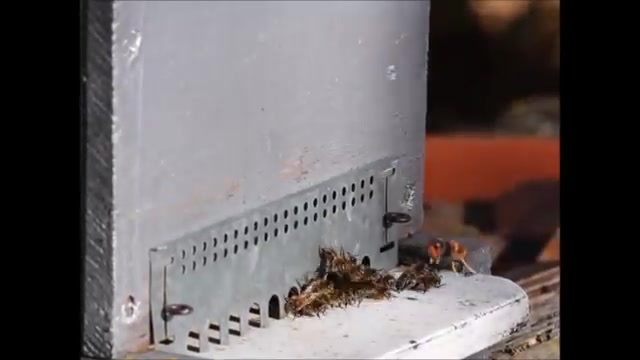bee: (329, 251, 362, 275), (295, 285, 328, 306), (378, 272, 403, 294)
hornet: (423, 238, 473, 270)
